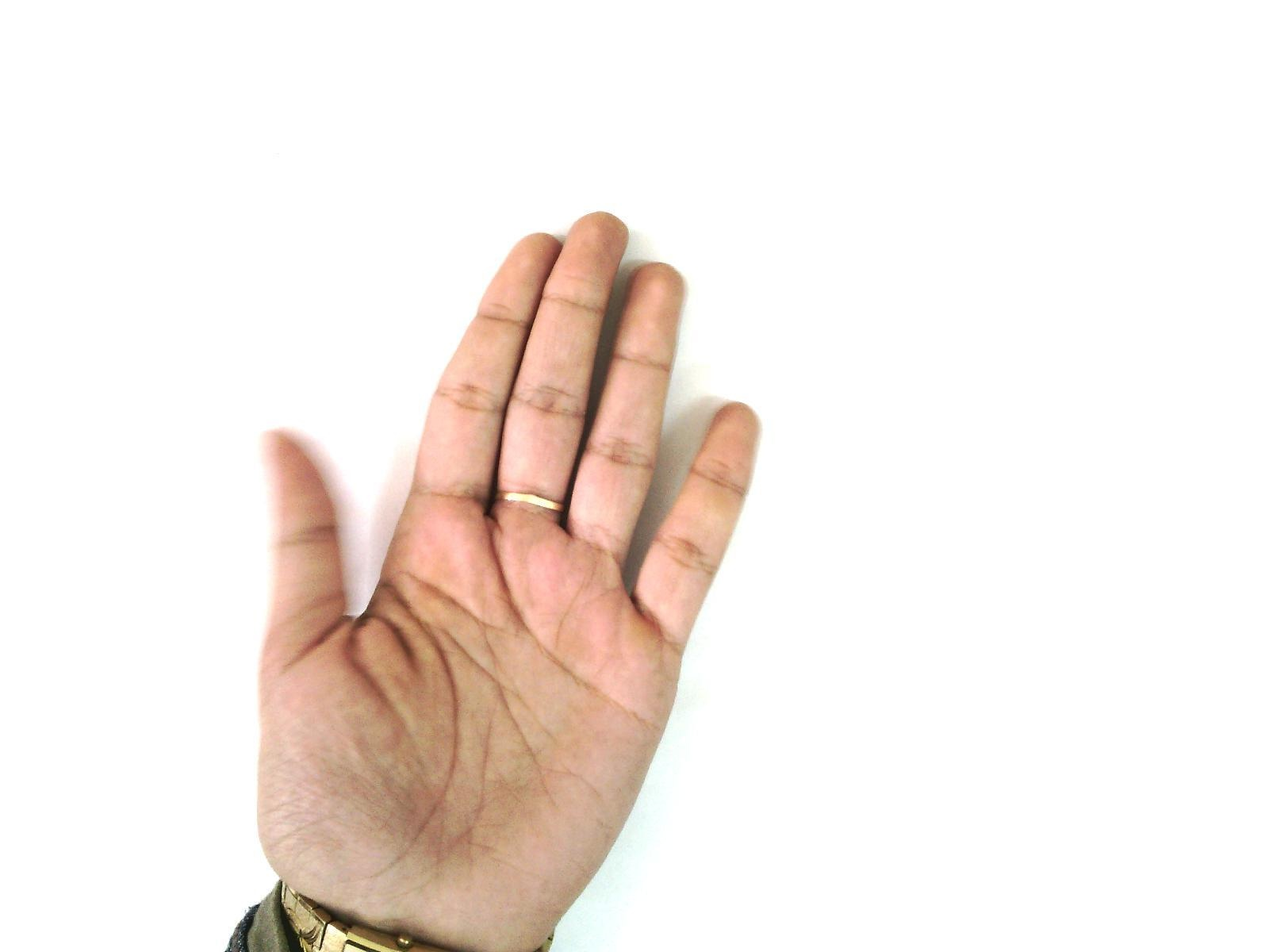open_palm: (251, 210, 765, 950)
